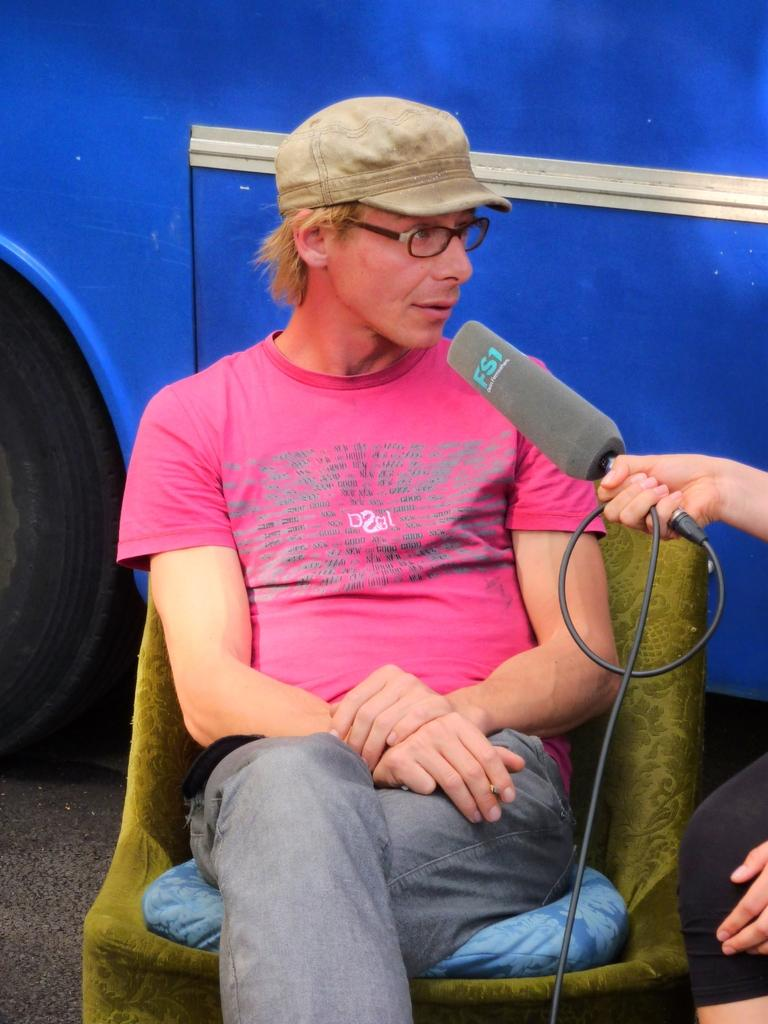Hat: (278, 94, 512, 218)
